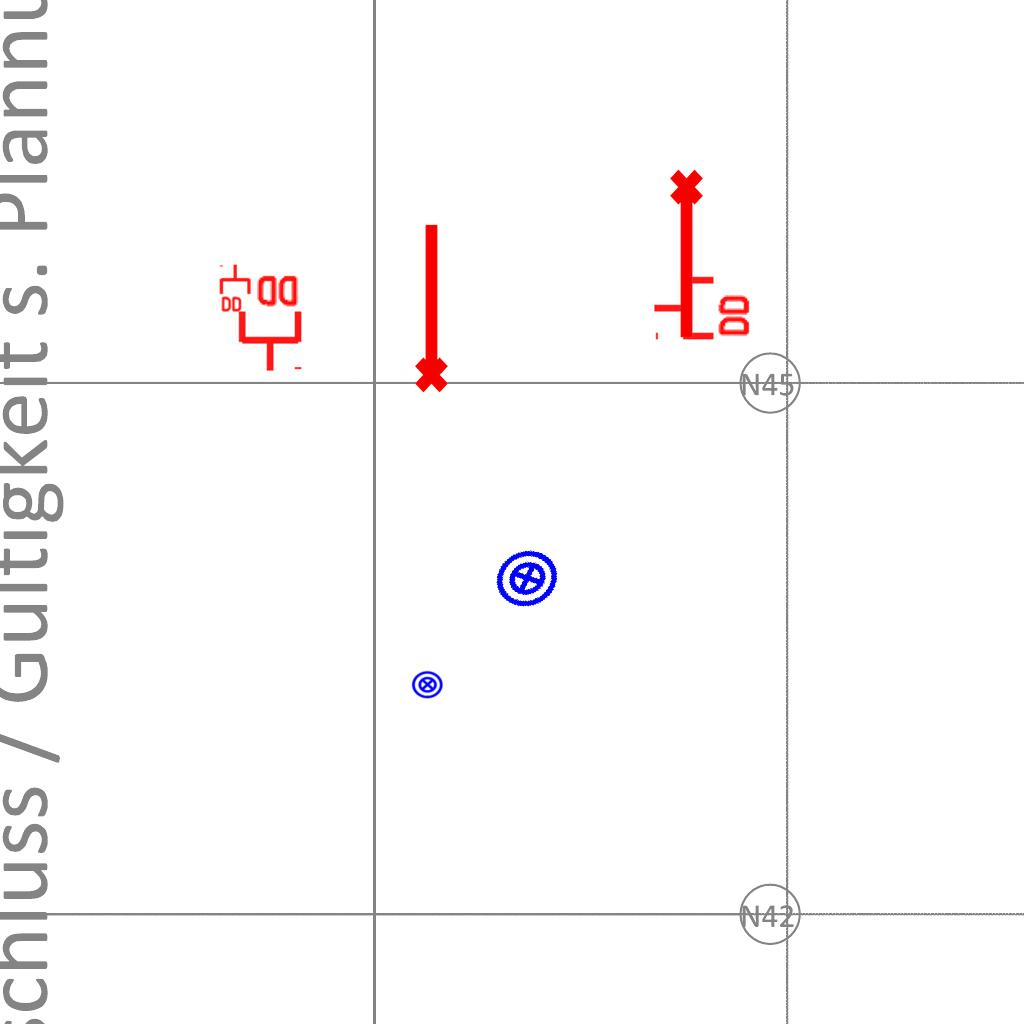ASR_Ansaugoeffnung: (406, 219, 452, 395), (666, 167, 712, 343)
Datenanschluss_zweifach: (651, 272, 754, 341), (234, 271, 303, 374), (219, 263, 253, 314)
Taster_beleuchtet: (483, 534, 571, 622), (411, 668, 444, 701)
